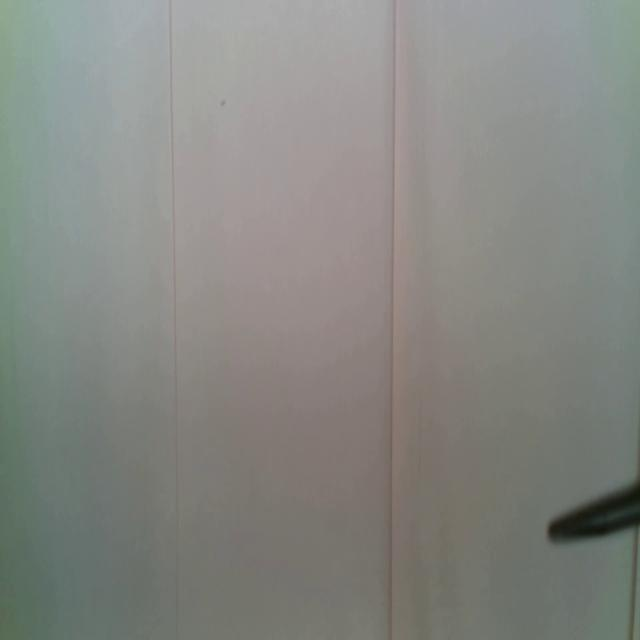crease: (168, 0, 181, 640), (389, 0, 400, 637), (628, 524, 640, 640)
hole: (220, 98, 227, 108)
